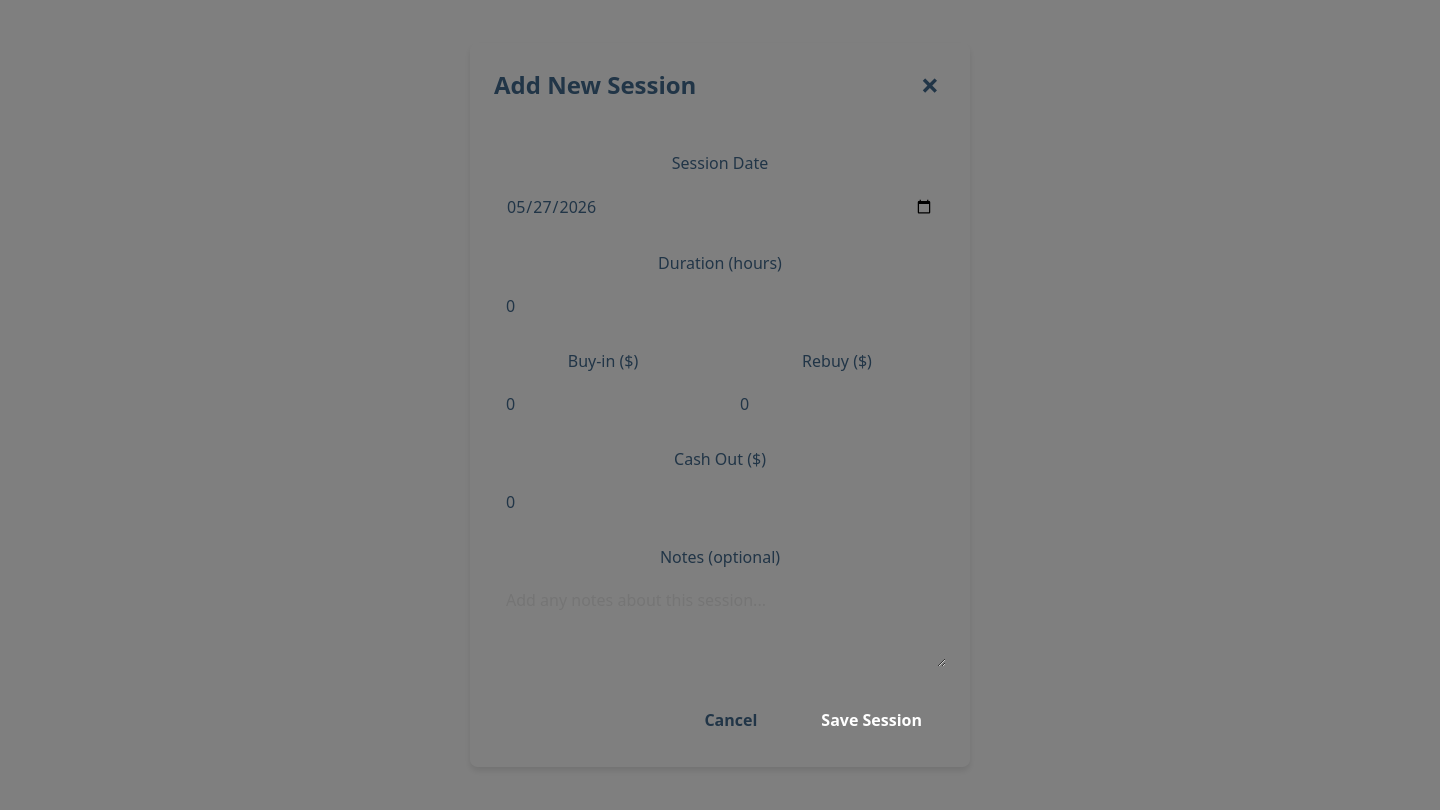
SessionForm › shows loading state while submitting
Step 1. Type "2024-02-01" into the date field labelled "Session Date" → (720, 207), box [494,183,946,231]
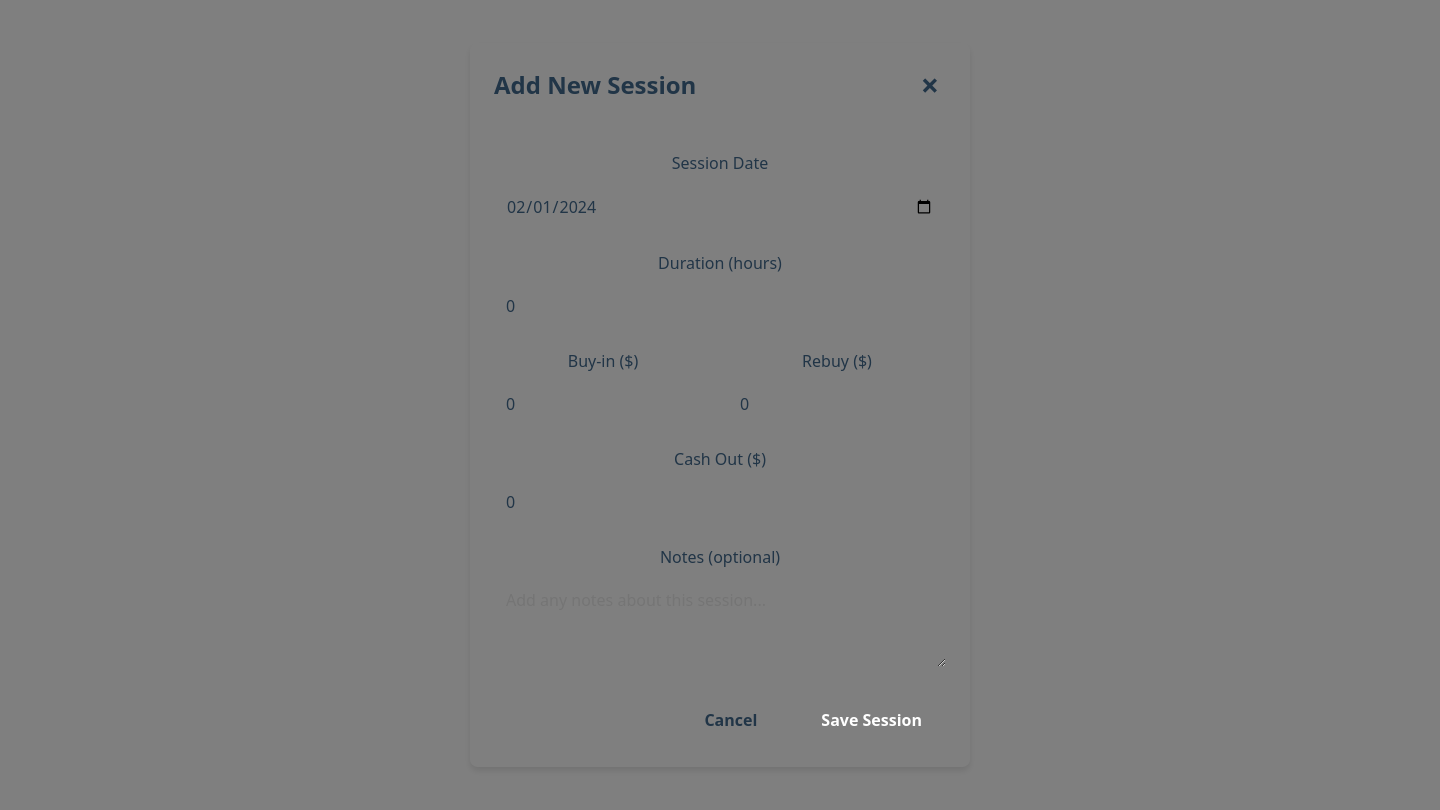
Step 2. Replace the text in the number field labelled "Duration (hours)" with "1" → (720, 306), box [494,283,946,329]
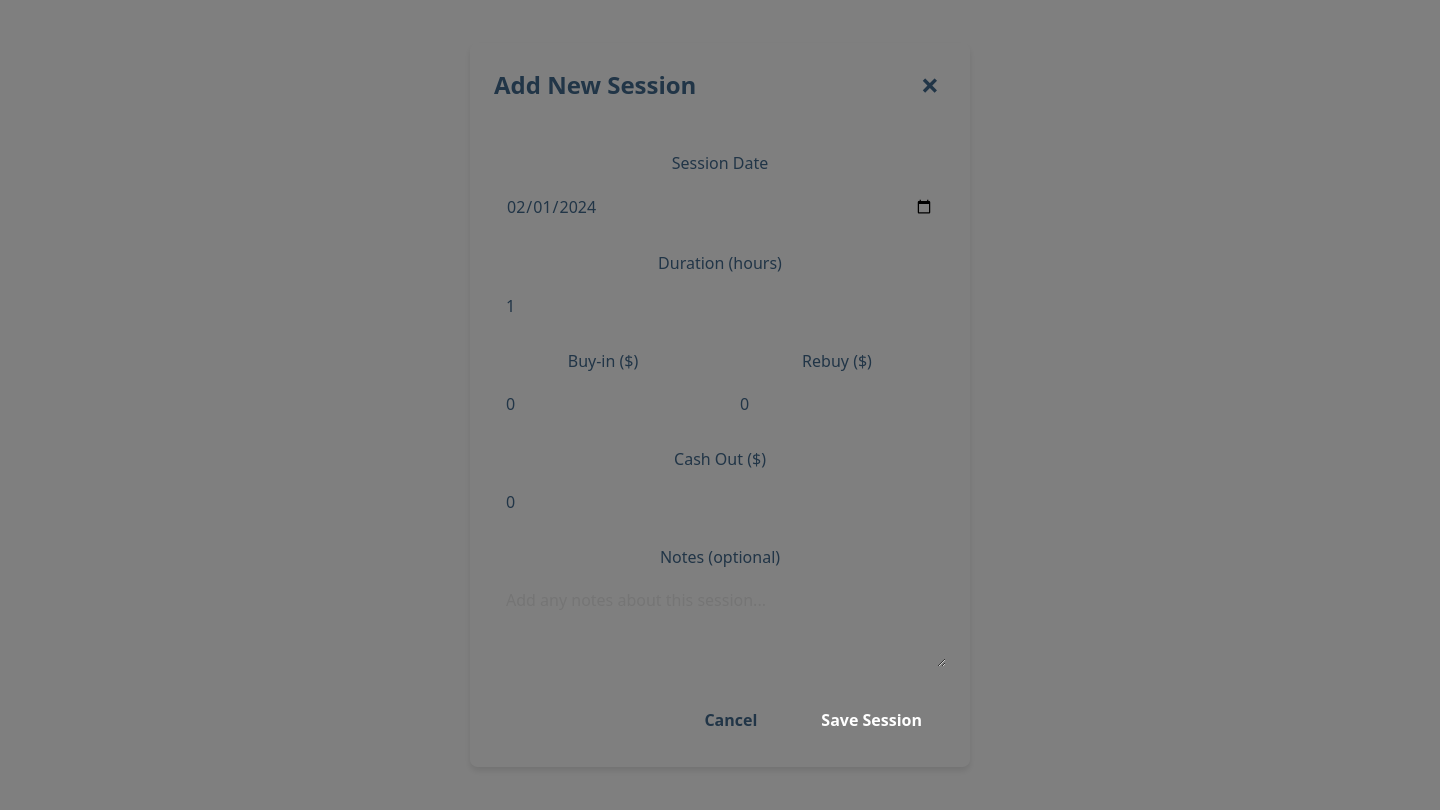
Step 3. Replace the text in the number field labelled "Buy-in ($)" with "100" → (603, 404), box [494,381,712,427]
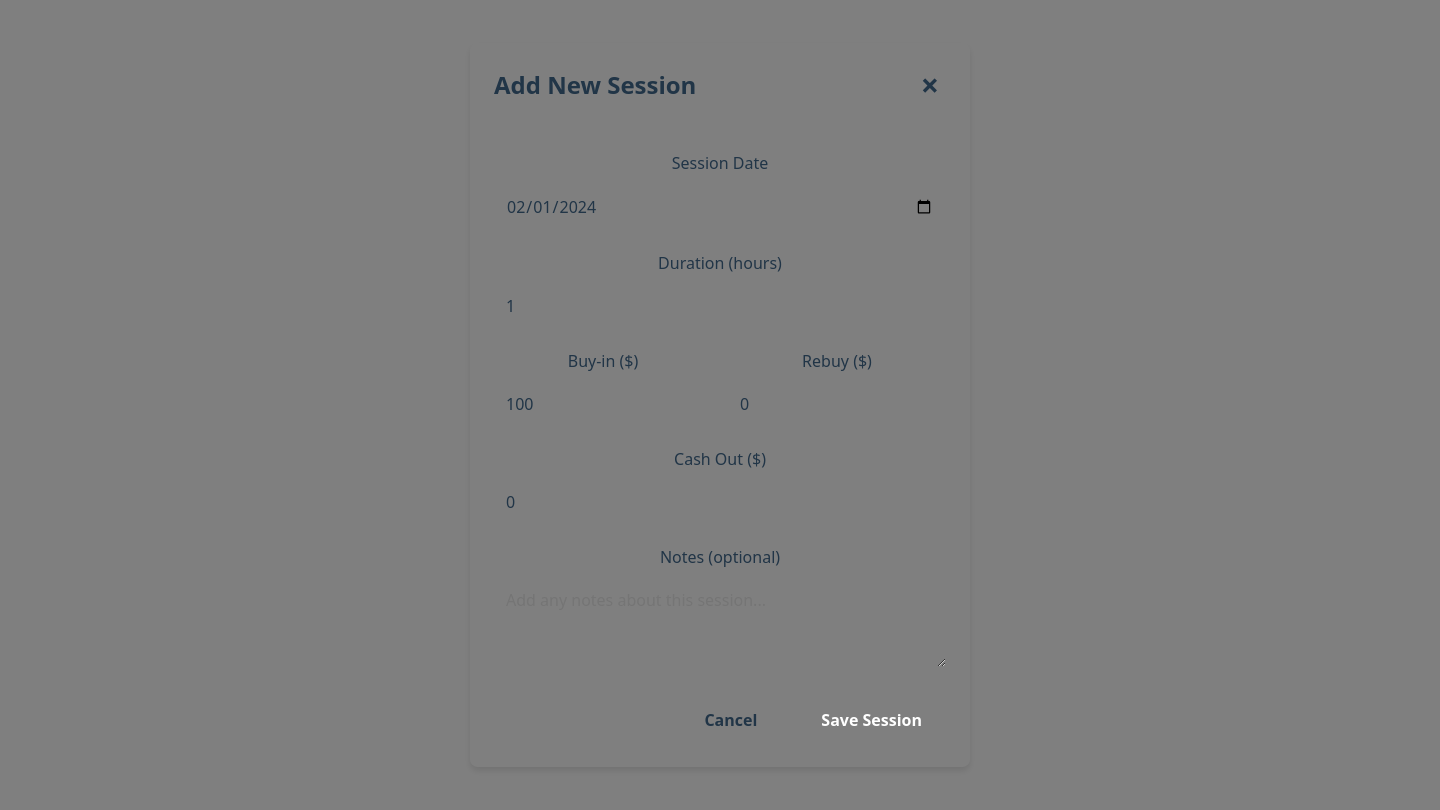
Step 4. Replace the text in the number field labelled "Cash Out ($)" with "200" → (720, 502), box [494,479,946,525]
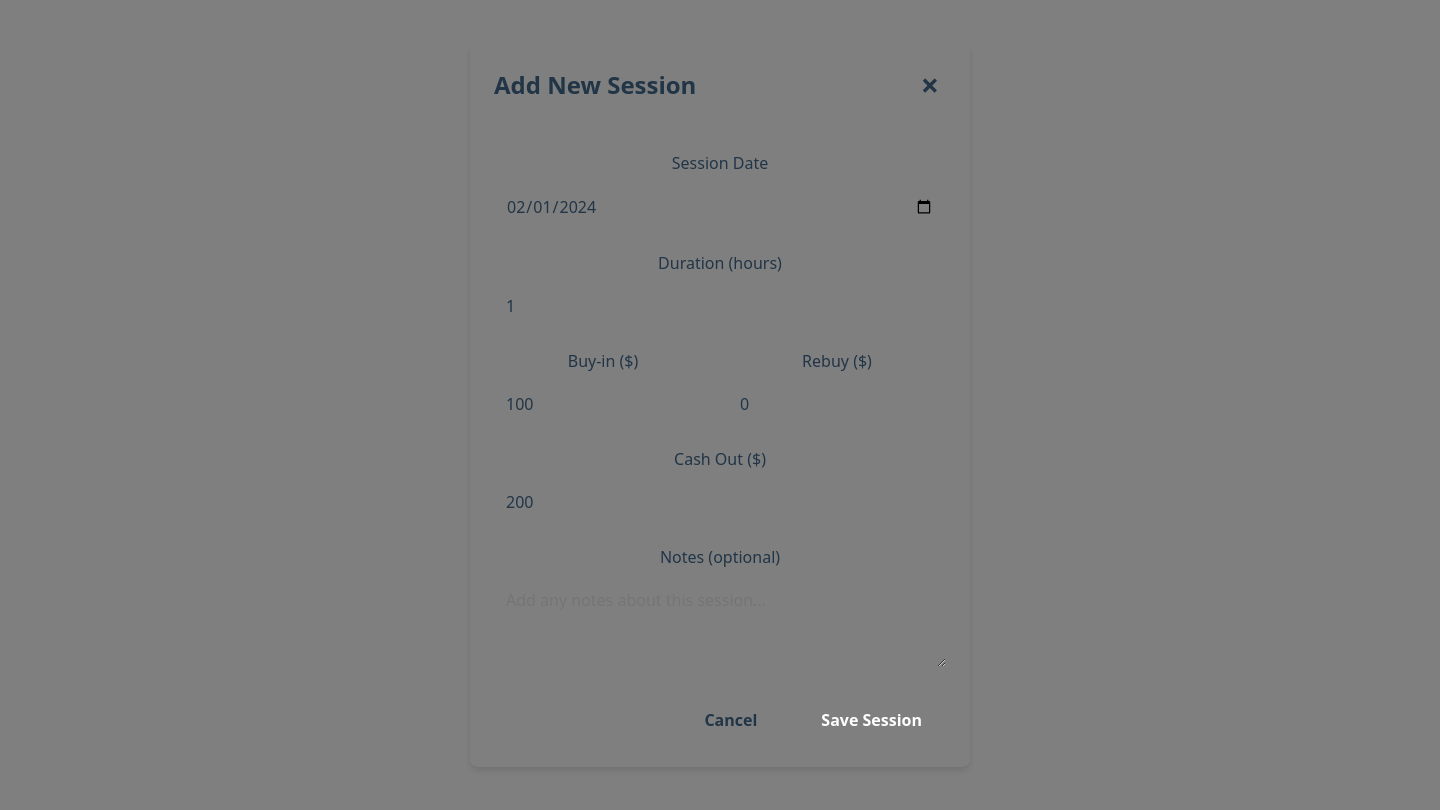
// Submit form
Step 5. Click the button "Save Session" → (872, 720), box [797,697,946,743]
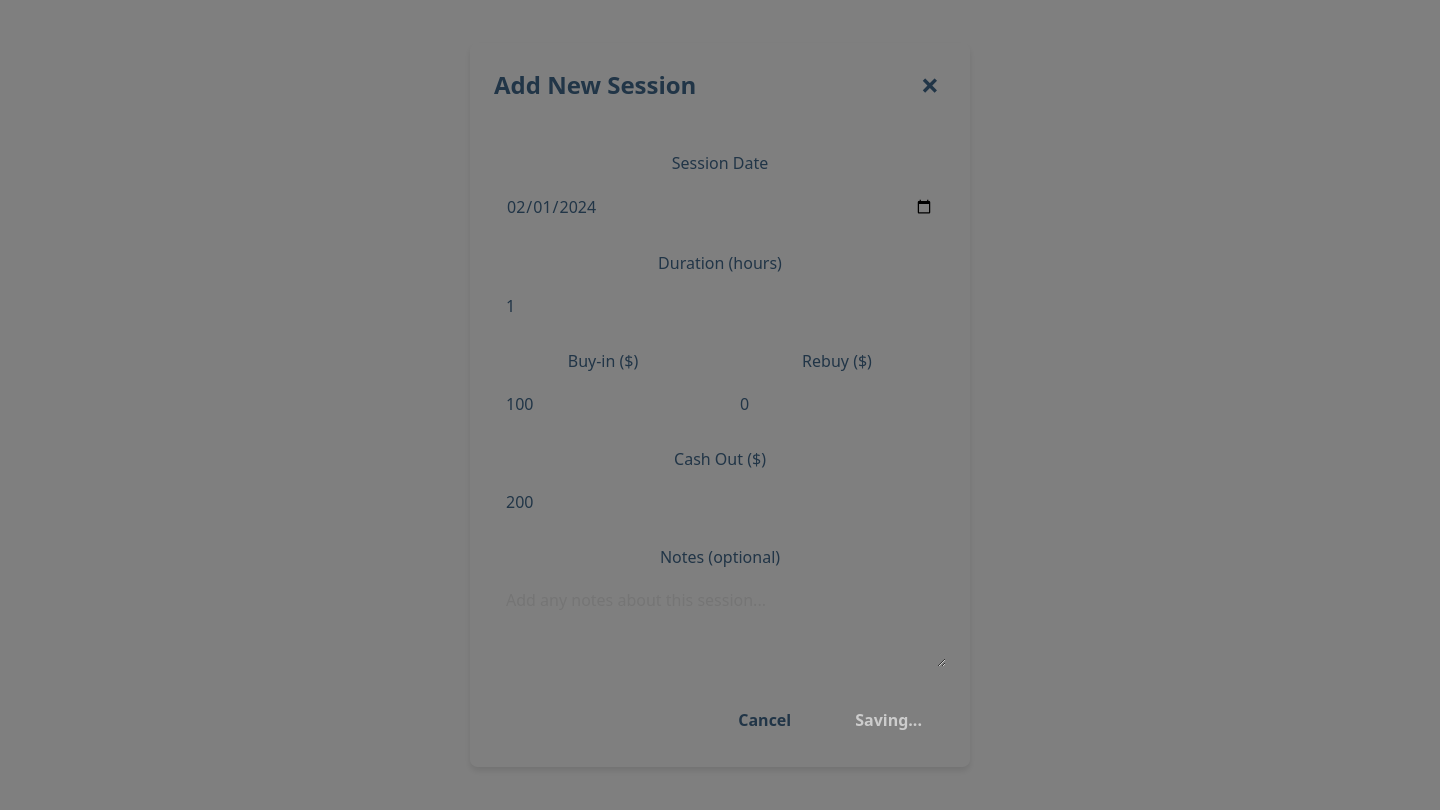
Now the button "Saving..." is shown, box [831,697,946,743]
